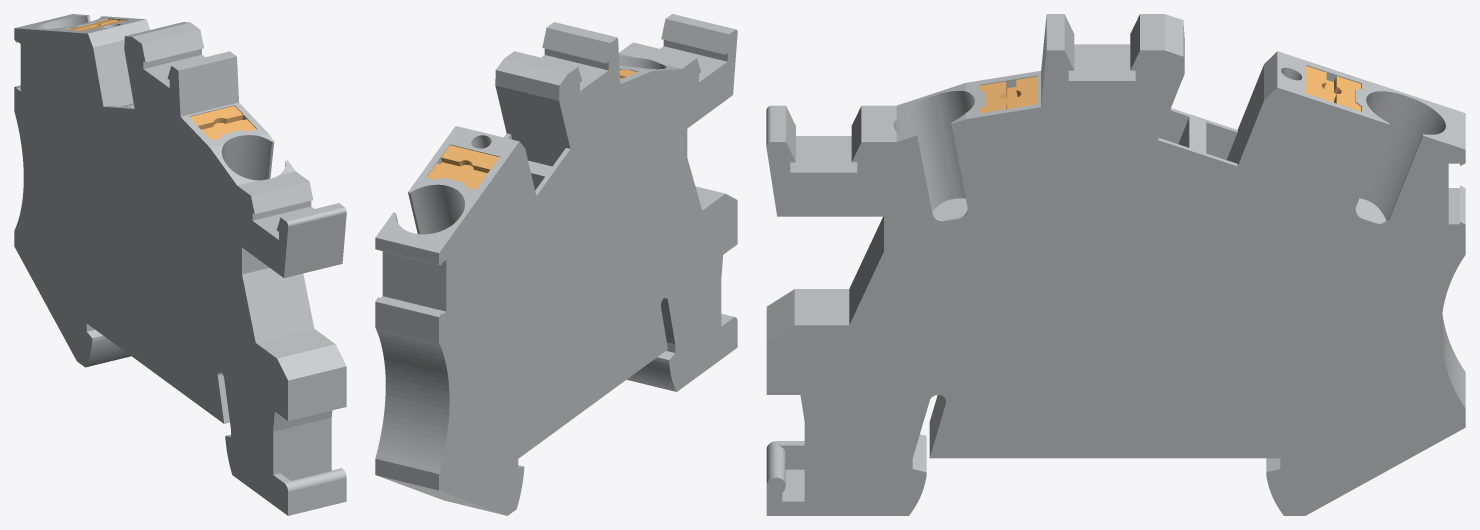
3 renders of one model, left to right at view 1: azimuth 30°, elevation 25°; view 2: azimuth 150°, elevation 25°; view 3: azimuth 270°, elevation 25°, orthographic. The views are drawn at different scales.
Parts seen in each view (by area): view 1: Node1, Node3; view 2: Node1, Node3; view 3: Node1, Node3.
Part boxes in pixels (<box>): Node1: <box>14,14,346,515</box>; Node3: <box>65,19,256,140</box>; Node1: <box>375,14,737,515</box>; Node3: <box>426,69,637,189</box>; Node1: <box>766,14,1465,515</box>; Node3: <box>979,66,1361,113</box>.
Size of the model in its own units: 8.15 by 48.5 by 66.01.
